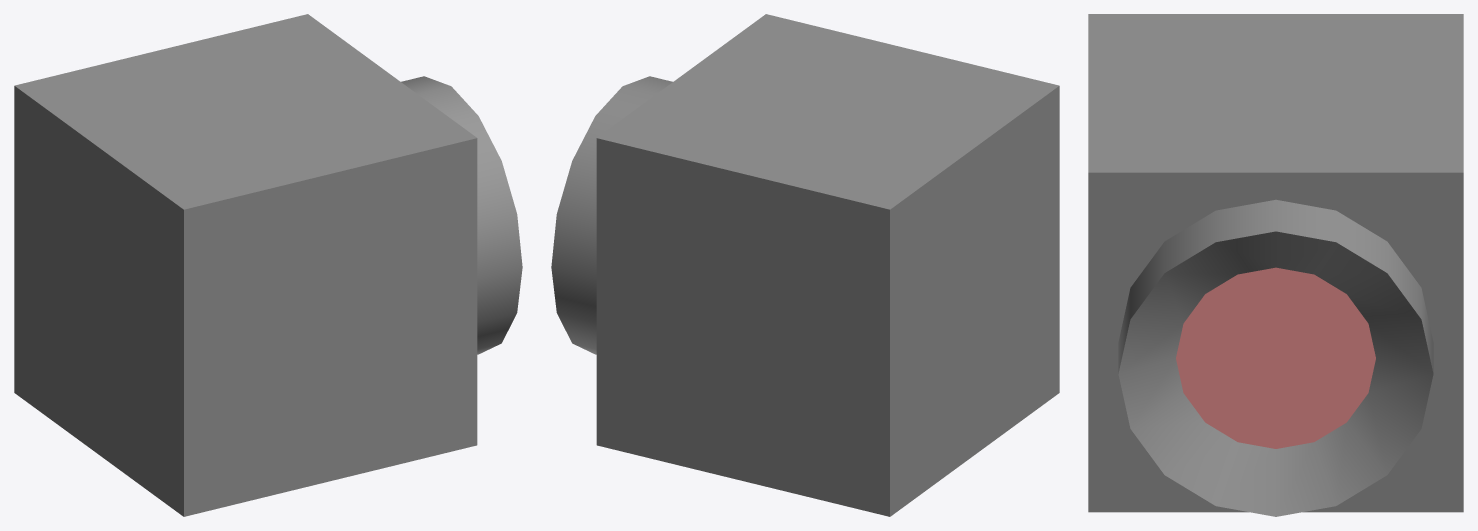
File: SM_Camera_1sx1sx1s.gltf
3 views of the same model, side by side, from view 1: azimuth 30°, elevation 25°; view 2: azimuth 150°, elevation 25°; view 3: azimuth 270°, elevation 25° (orthographic). The views are drawn at different scales.
Visible parts, largest first — view 1: SM_Camera_1sx1sx1s; view 2: SM_Camera_1sx1sx1s; view 3: SM_Camera_1sx1sx1s.
Boxes of the visible parts, bbox=[...] form: SM_Camera_1sx1sx1s: bbox=[14, 14, 522, 516]; SM_Camera_1sx1sx1s: bbox=[551, 14, 1059, 516]; SM_Camera_1sx1sx1s: bbox=[1088, 14, 1463, 516].
Size of the model in its own units: 0.12 by 0.1 by 0.1.
